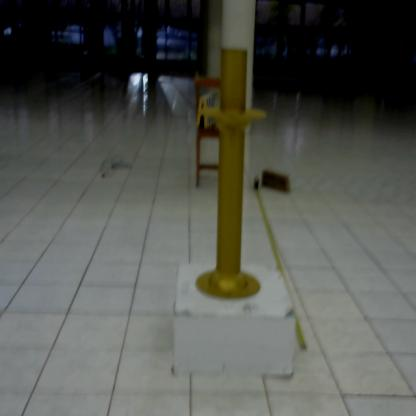pole: (190, 43, 273, 308)
